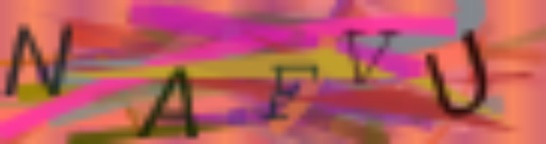A: (135, 65, 201, 142)
F: (257, 61, 323, 123)
N: (2, 17, 80, 103)
U: (422, 28, 493, 120)
V: (342, 27, 405, 86)
